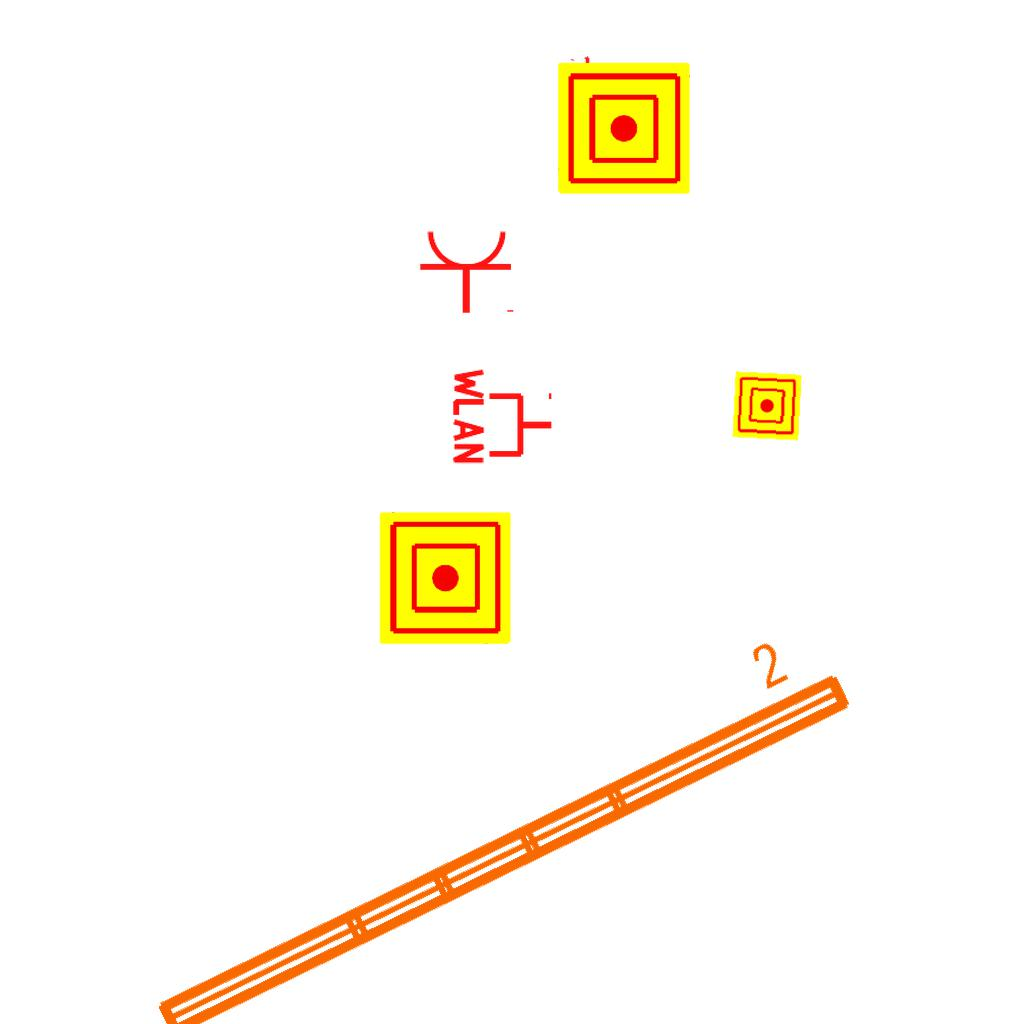Ambulanz_Pendelleuchte_LED: (119, 613, 865, 1024)
NAM-Nichtautomatischer_Melder: (379, 512, 511, 644), (558, 62, 690, 194), (732, 371, 802, 441)
Schukosteckdose_einfach: (418, 228, 518, 315)
WLAN: (451, 364, 556, 468), (556, 51, 616, 111)
